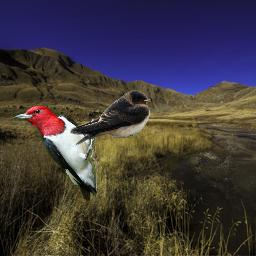Swallow: (70, 90, 151, 146)
Woodpecker: (10, 105, 101, 201)
